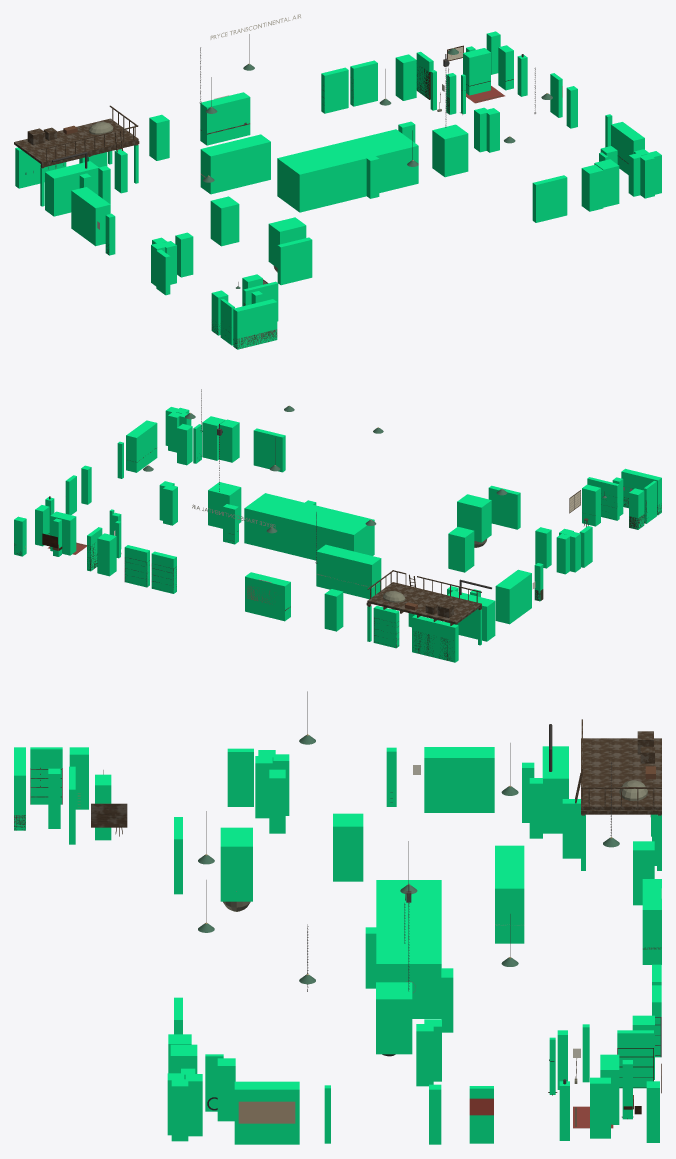
The model's file is hangar_props.glb.
The picture shows the model from 3 angles, top to bottom: view 1: azimuth 30°, elevation 25°; view 2: azimuth 150°, elevation 25°; view 3: azimuth 270°, elevation 25°; orthographic projection. The views are drawn at different scales.
Parts seen in each view (by area): view 1: COL_AircraftFrame_Body, Loft, COL_Wing, COL_Workbench_North, COL_Dark_Sink, COL_Stove, COL_Workbench, COL_Engine, COL_Sandbags_-1, COL_Sandbags_1, COL_Crate_7, COL_Office_Desk (+22 smaller); view 2: COL_AircraftFrame_Body, Loft, COL_Wing, COL_Workbench_North, COL_Lockers, COL_Workbench, COL_Workbench_East, COL_TarpPile, COL_Sandbags_1, COL_Stove, COL_Sandbags_-1, COL_Crate_7 (+25 smaller); view 3: COL_AircraftFrame_Body, Loft, COL_Workbench, COL_Workbench_East, COL_Wing, COL_Engine, COL_TarpPile, COL_Crate_7, COL_Stove, COL_Office_Bookshelf, COL_Workbench_North, COL_JerryCans (+28 smaller).
Part boxes in pixels (left/top/right/bottom): COL_AircraftFrame_Body: left=277, top=129, right=418, bottom=212; Loft: left=14, top=105, right=139, bottom=168; COL_Wing: left=200, top=134, right=270, bottom=194; COL_Workbench_North: left=200, top=92, right=250, bottom=145; COL_Dark_Sink: left=233, top=299, right=277, bottom=349; COL_Stove: left=45, top=161, right=98, bottom=216; COL_Workbench: left=71, top=187, right=110, bottom=246; COL_Engine: left=432, top=124, right=468, bottom=177; COL_Sandbags_-1: left=277, top=237, right=312, bottom=285; COL_Sandbags_1: left=532, top=175, right=567, bottom=222; COL_Crate_7: left=210, top=196, right=239, bottom=246; COL_Office_Desk: left=463, top=48, right=490, bottom=95; COL_AircraftFrame_Body: left=244, top=493, right=374, bottom=560; Loft: left=366, top=570, right=481, bottom=625; COL_Wing: left=316, top=544, right=381, bottom=599; COL_Workbench_North: left=245, top=572, right=290, bottom=621; COL_Lockers: left=412, top=615, right=458, bottom=662; COL_Workbench: left=495, top=569, right=531, bottom=624; COL_Workbench_East: left=126, top=420, right=157, bottom=472; COL_TarpPile: left=457, top=494, right=491, bottom=542; COL_Sandbags_1: left=253, top=428, right=285, bottom=472; COL_Stove: left=447, top=590, right=495, bottom=641; COL_Sandbags_-1: left=488, top=485, right=520, bottom=529; COL_Crate_7: left=448, top=527, right=474, bottom=572; COL_AircraftFrame_Body: left=376, top=880, right=441, bottom=1018; Loft: left=575, top=719, right=661, bottom=815; COL_Workbench: left=424, top=747, right=494, bottom=812; COL_Workbench_East: left=234, top=1081, right=299, bottom=1144; COL_Wing: left=495, top=845, right=524, bottom=943; COL_Engine: left=376, top=982, right=412, bottom=1054; COL_TarpPile: left=220, top=827, right=252, bottom=901; COL_Crate_7: left=333, top=813, right=363, bottom=881; COL_Stove: left=542, top=746, right=568, bottom=833; COL_Office_Bookshelf: left=617, top=1030, right=653, bottom=1088; COL_Workbench_North: left=642, top=879, right=661, bottom=964; COL_JerryCans: left=227, top=748, right=253, bottom=806.
Bounding box in the file's own units: 40.1 × 9.8 × 32.
Materials: 53 (5 with a texture image).
